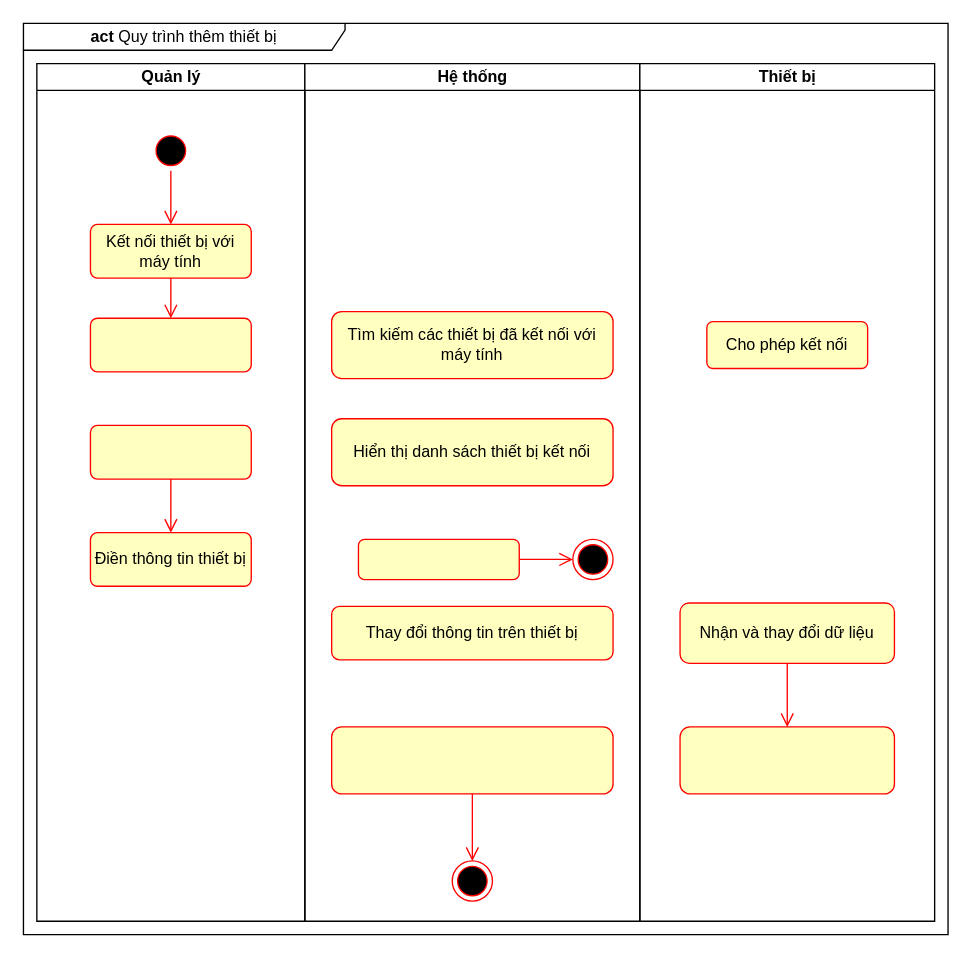
Image size: 972x958. Some labels were removed from this diagram. Each missing label, with the centre of its shape:
"Chọn chức năng thêm thiết bị" belongs at [170,344].
"Chọn thiết bị" belongs at [170,451].
"Cập nhật trạng thái thiết bị" belongs at [471,760].
"Kết nối mạng và broker" belongs at [786,760].
"Thêm thiết bị" belongs at [438,559].
